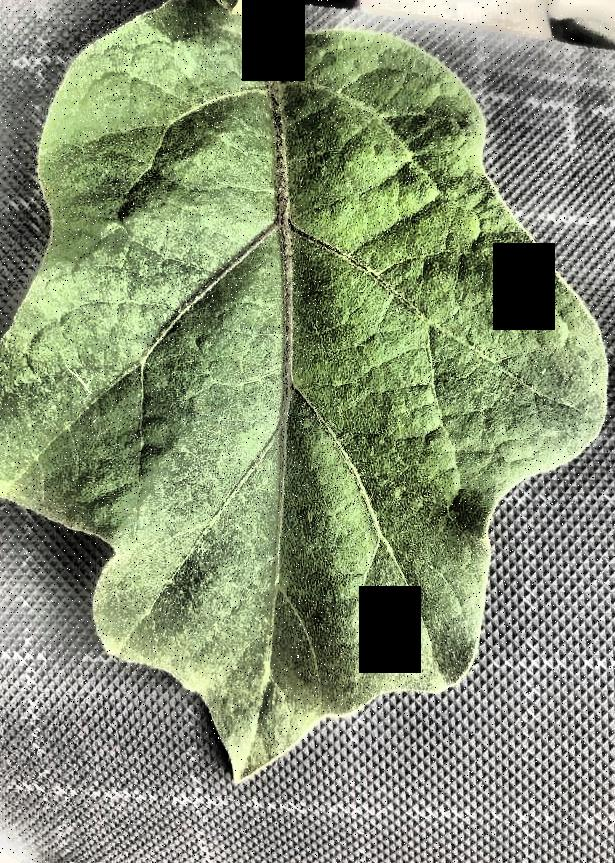HEALTHY: (35, 0, 615, 624)
